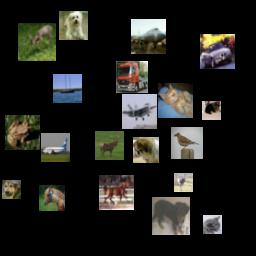airplane: (122, 94, 157, 129), (131, 19, 166, 54), (41, 133, 70, 162)
automobile: (200, 34, 235, 69)
bird: (171, 127, 203, 159), (174, 173, 193, 192)
cat: (158, 83, 193, 118), (203, 215, 222, 234)
deer: (18, 23, 56, 61), (95, 131, 124, 160)
dog: (152, 197, 190, 235), (59, 11, 88, 40), (133, 137, 159, 163), (202, 101, 221, 120), (2, 180, 21, 199)
frog: (5, 115, 40, 150)
ship: (53, 74, 82, 103)
truck: (116, 61, 148, 93)
